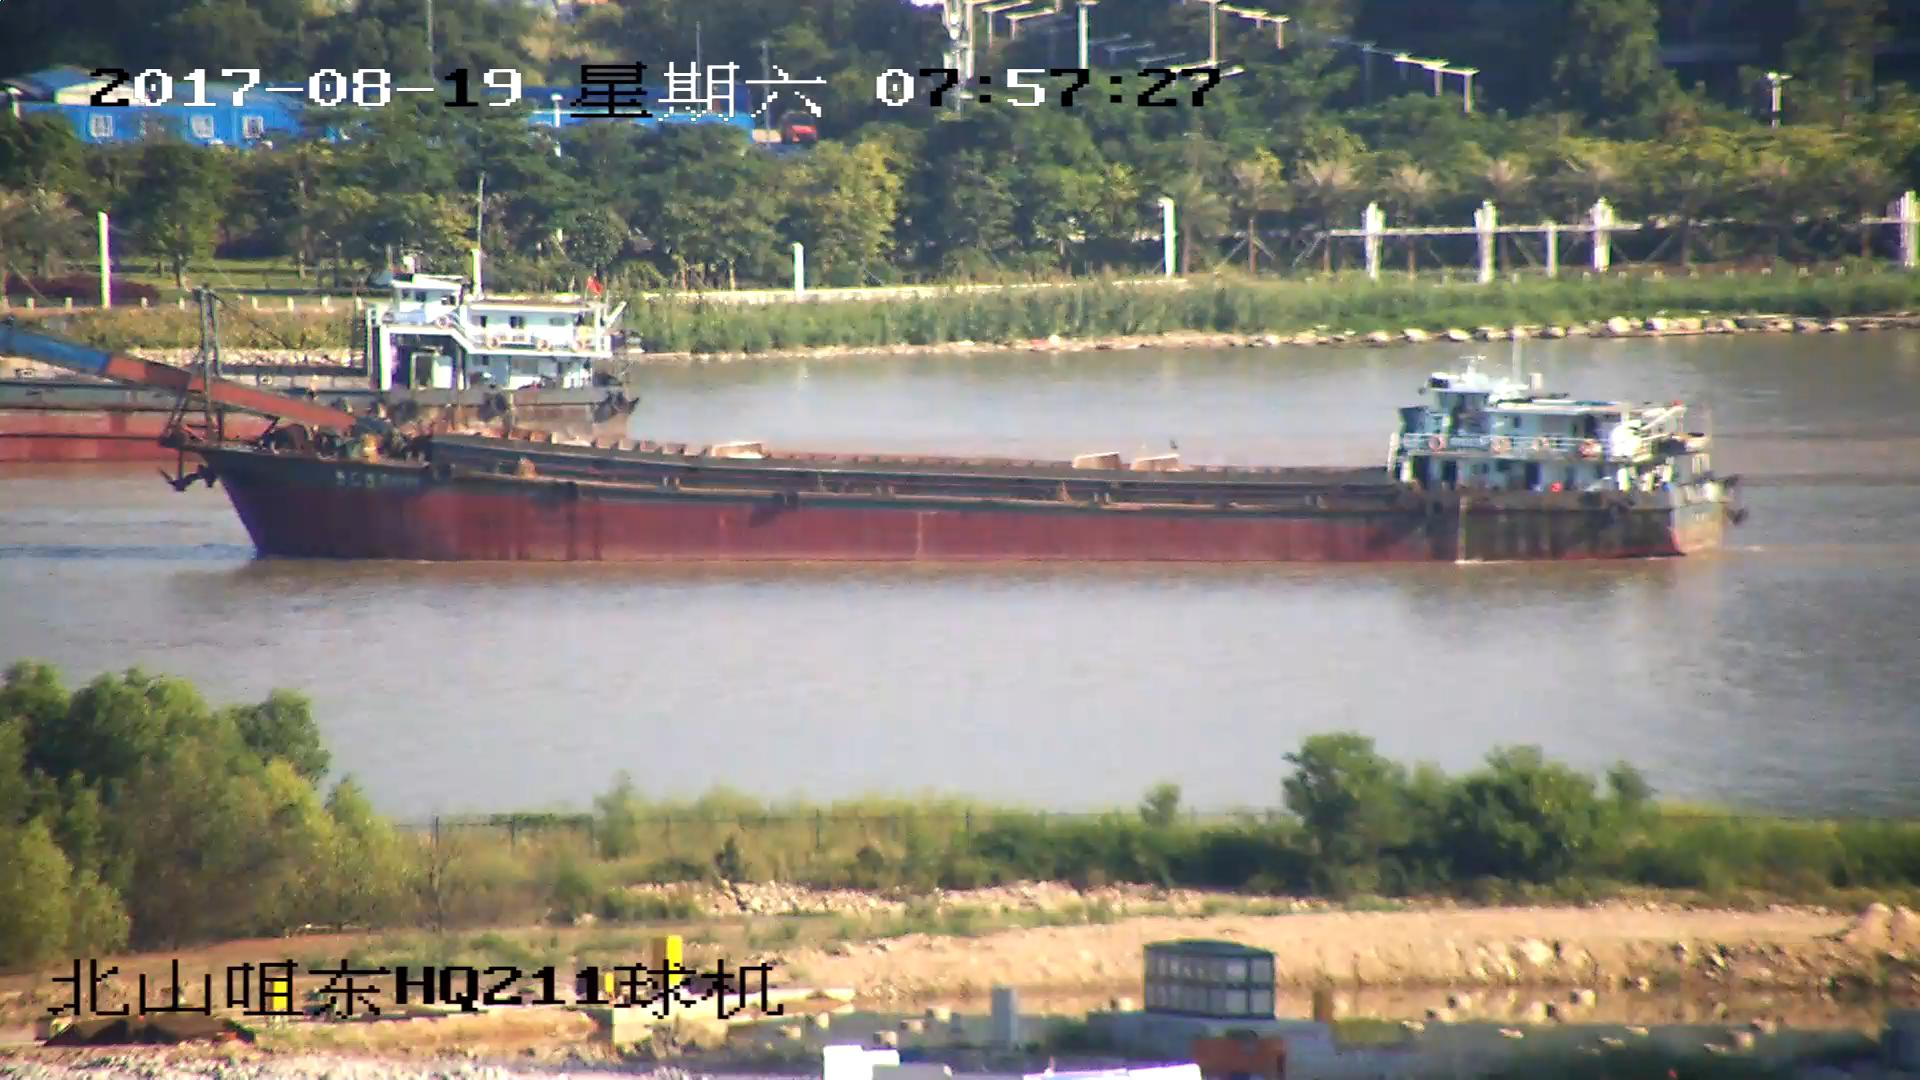bulk cargo carrier: (1, 284, 1747, 567), (1, 269, 640, 440)
